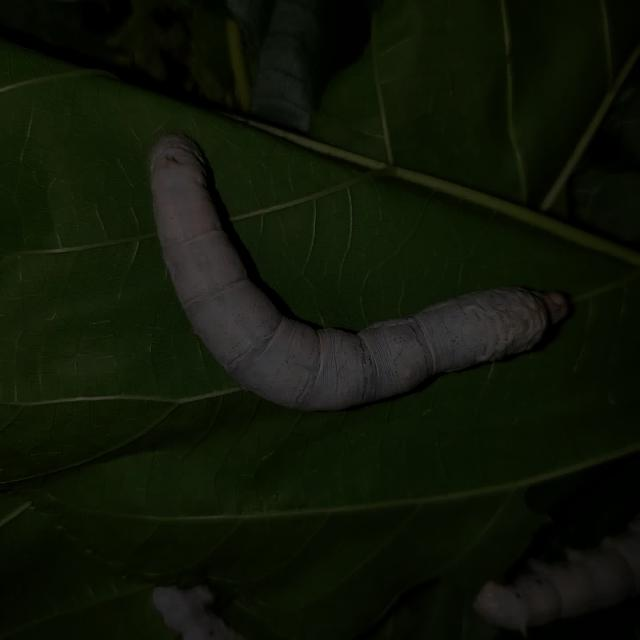Healthy: (122, 107, 580, 430)
